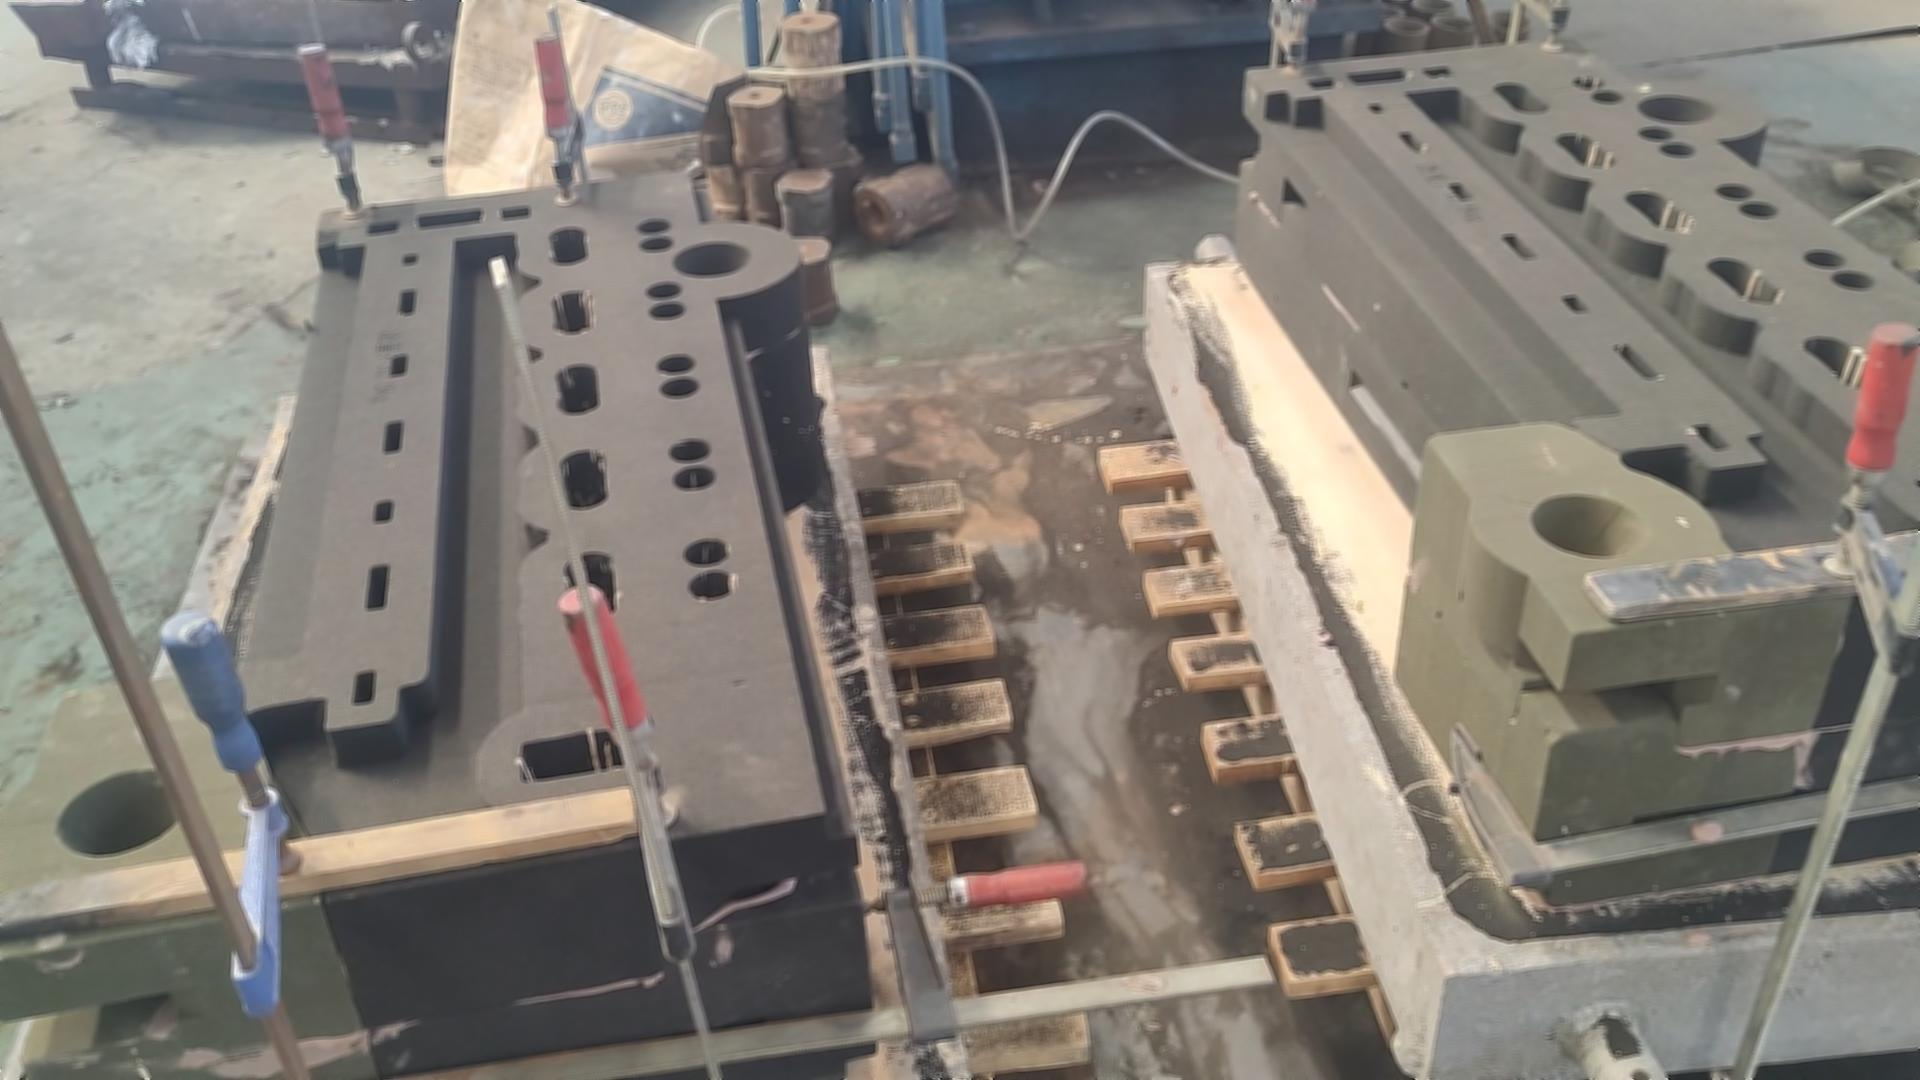pouring hole: (51, 767, 185, 858), (1532, 493, 1647, 559), (670, 240, 753, 280), (1636, 95, 1720, 125), (1487, 11, 1534, 29), (1431, 17, 1478, 33), (1385, 18, 1428, 36), (1407, 1, 1457, 15), (1360, 4, 1403, 18)
